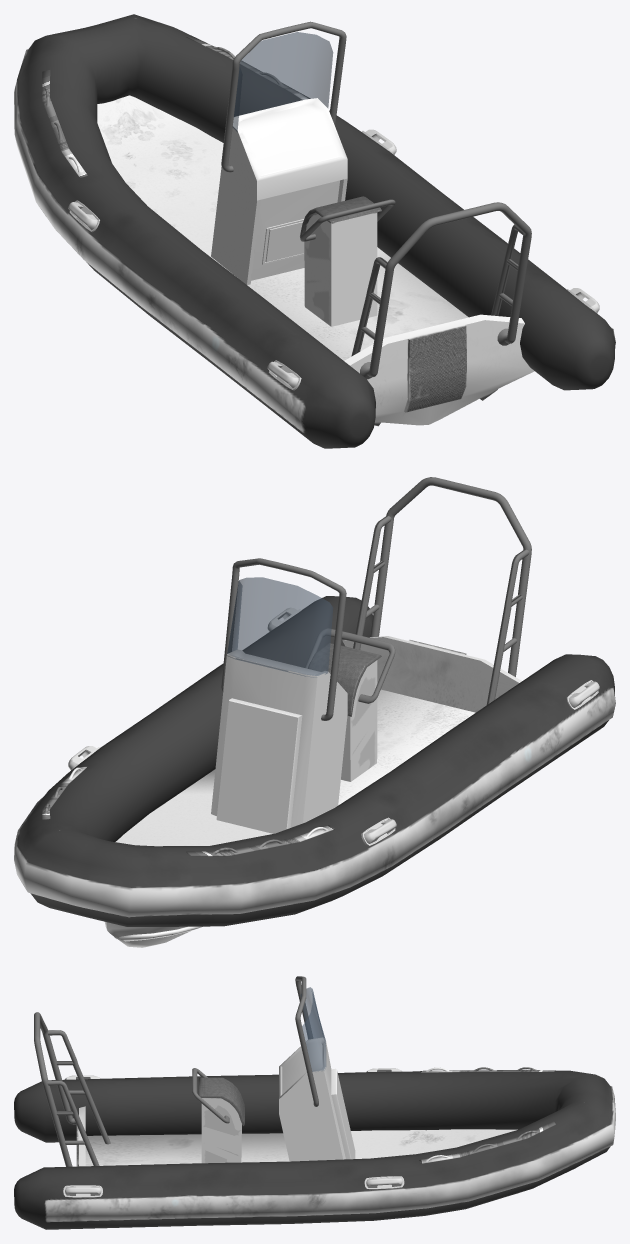
Rendered from boat.glb.
3 renders of one model, top to bottom at view 1: azimuth 30°, elevation 25°; view 2: azimuth 150°, elevation 25°; view 3: azimuth 270°, elevation 25°, orthographic. The views are drawn at different scales.
Visible parts, largest first — view 1: Circle, Plane, Cube, Cube.002, Cube.001, Circle.001, Circle.002, Circle.004, Plane.002, Plane.003, Circle.003; view 2: Circle, Cube, Plane, Cube.001, Circle.001, Cube.002, Circle.002, Circle.004, Circle.003, Plane.003, Plane.002; view 3: Circle, Plane, Cube, Circle.001, Cube.002, Cube.001, Circle.004, Circle.002, Plane.003, Plane.002, Circle.003.
Part boxes in pixels (box(x1,y1,x2,y2)): Circle: box(14, 14, 615, 448); Plane: box(97, 95, 534, 425); Cube: box(211, 98, 347, 284); Cube.002: box(300, 196, 381, 326); Cube.001: box(232, 32, 333, 132); Circle.001: box(351, 202, 531, 379); Circle.002: box(221, 21, 346, 172); Circle.004: box(42, 35, 308, 178); Plane.002: box(267, 288, 599, 390); Plane.003: box(68, 129, 396, 232); Circle.003: box(300, 199, 395, 241); Circle: box(14, 596, 615, 926); Cube: box(211, 649, 347, 833); Plane: box(105, 636, 521, 947); Cube.001: box(227, 577, 333, 677); Circle.001: box(353, 477, 531, 704); Cube.002: box(308, 643, 381, 781); Circle.002: box(221, 558, 346, 720); Circle.004: box(42, 766, 334, 856); Circle.003: box(305, 628, 395, 703); Plane.003: box(68, 746, 396, 846); Plane.002: box(267, 607, 599, 710); Circle: box(14, 1070, 615, 1229); Plane: box(76, 1106, 519, 1194); Cube: box(279, 1037, 355, 1161); Circle.001: box(34, 1012, 110, 1166); Cube.002: box(198, 1077, 244, 1163); Cube.001: box(300, 987, 326, 1071); Circle.004: box(419, 1067, 555, 1163); Circle.002: box(295, 976, 318, 1106); Plane.003: box(364, 1068, 404, 1189); Plane.002: box(63, 1075, 102, 1197); Circle.003: box(192, 1068, 229, 1123).
Size of the model in its own units: 2.41 by 2.14 by 5.34.
4 materials, 1 textured.
